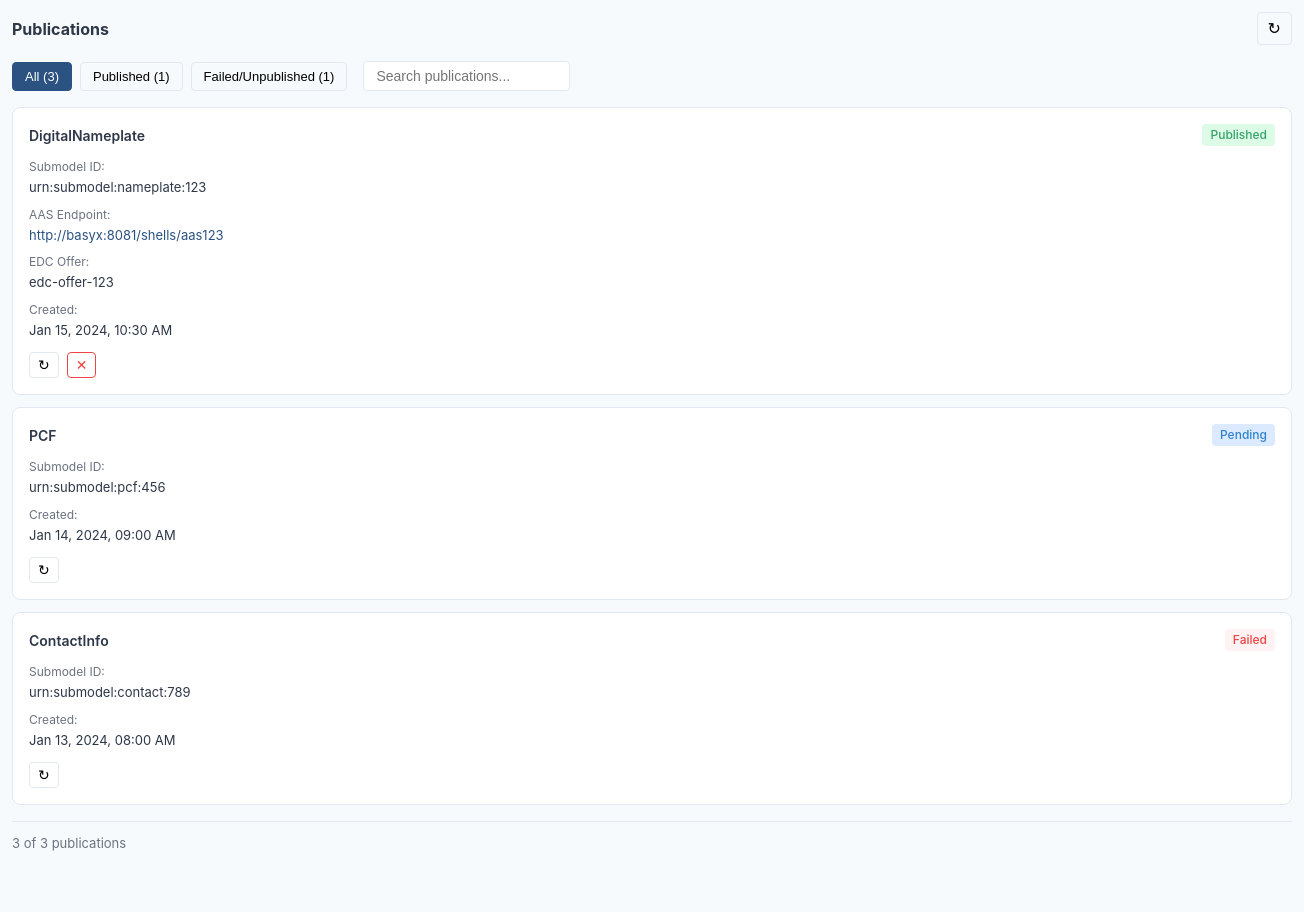
Test: PublicationManager › should search publications
Check: the text "DigitalNameplate" is shown, box [29,124,145,146]
// Search for nameplate
Type "nameplate" into the field with placeholder "Search publications...".
click(467, 76); type("nameplate")  # box [363,61,570,91]
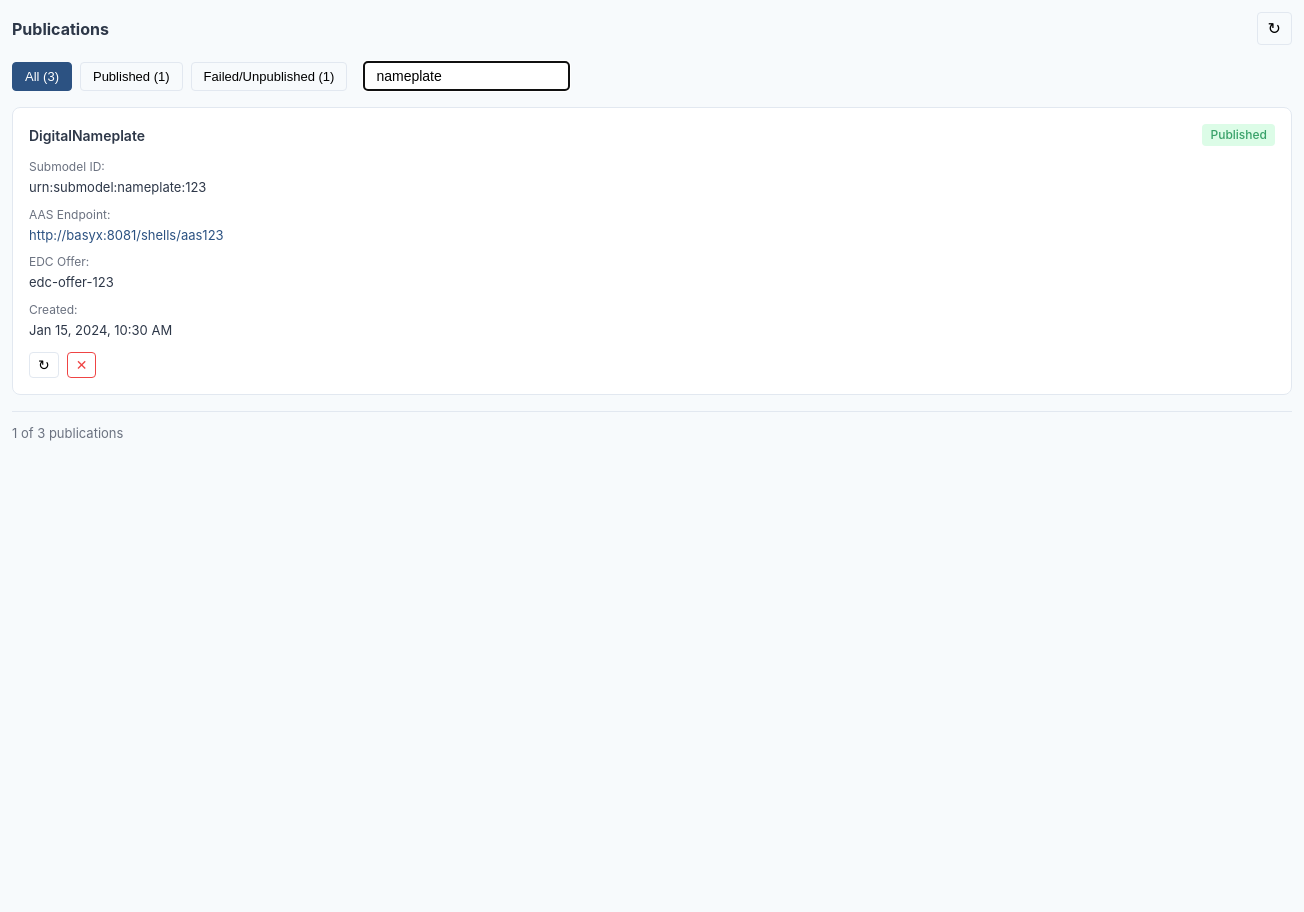
Check: the text "DigitalNameplate" is shown, box [29,124,145,146]
Check: the text "PCF" is gone
Check: the text "ContactInfo" is gone
